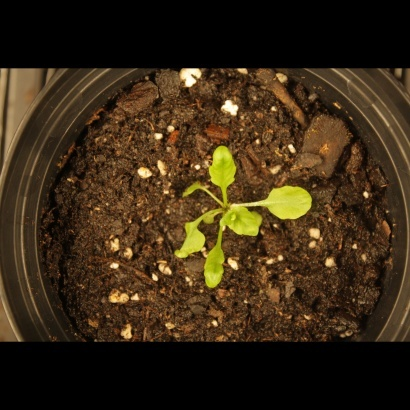leaf: (261, 184, 317, 221), (204, 142, 244, 193), (173, 214, 208, 264), (201, 239, 230, 290), (225, 206, 264, 242), (179, 176, 210, 200)
